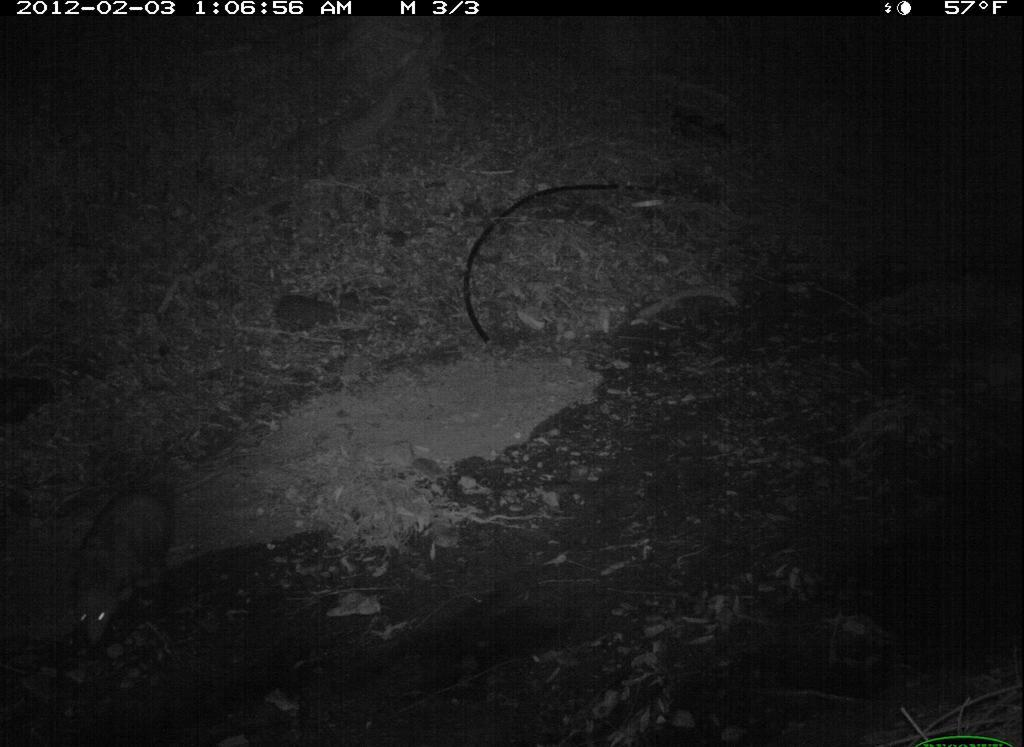opossum: (62, 456, 237, 662)
